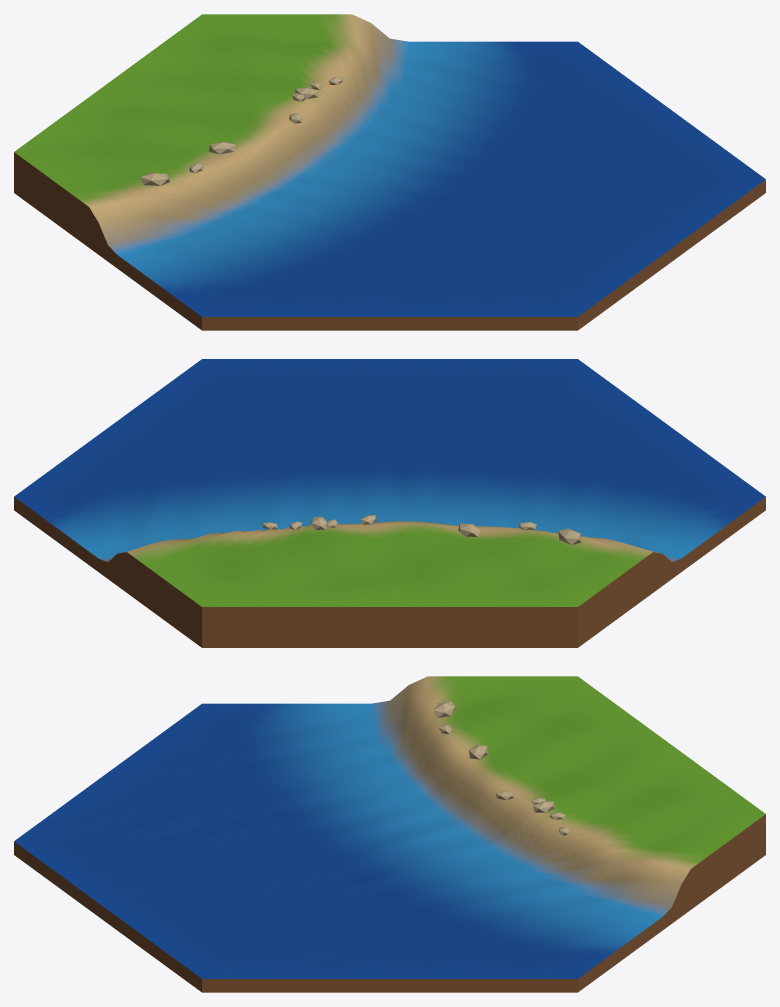
The model's file is SM_Agua_Cabo_LOD0.fbx.
3 views of the same model, one above another, from view 1: azimuth 30°, elevation 25°; view 2: azimuth 150°, elevation 25°; view 3: azimuth 270°, elevation 25° (orthographic).
Parts seen in each view (by area): view 1: SM_Agua_Cabo_LOD0; view 2: SM_Agua_Cabo_LOD0; view 3: SM_Agua_Cabo_LOD0.
Part boxes in pixels (x1,y1,x2,y2): SM_Agua_Cabo_LOD0: [14, 14, 765, 330]; SM_Agua_Cabo_LOD0: [14, 359, 765, 647]; SM_Agua_Cabo_LOD0: [14, 676, 765, 992].
Bounding box in the file's own units: 1.73 × 0.1474 × 2.
1 material, 1 textured.
